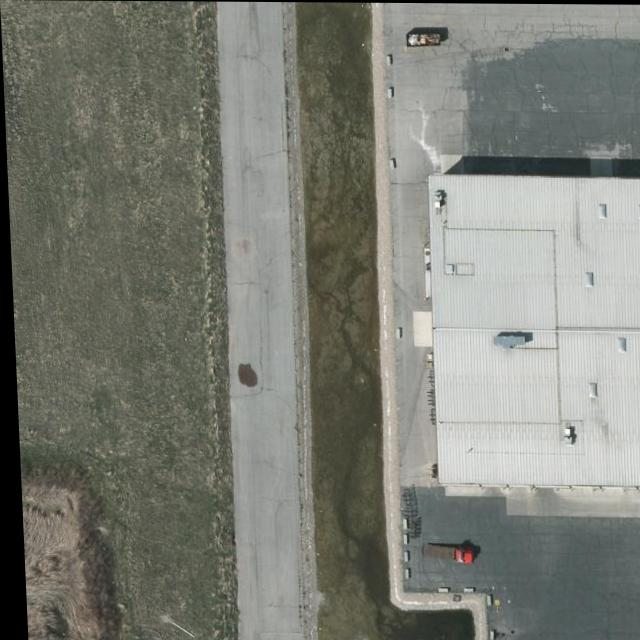vehicle: (416, 543, 470, 563)
